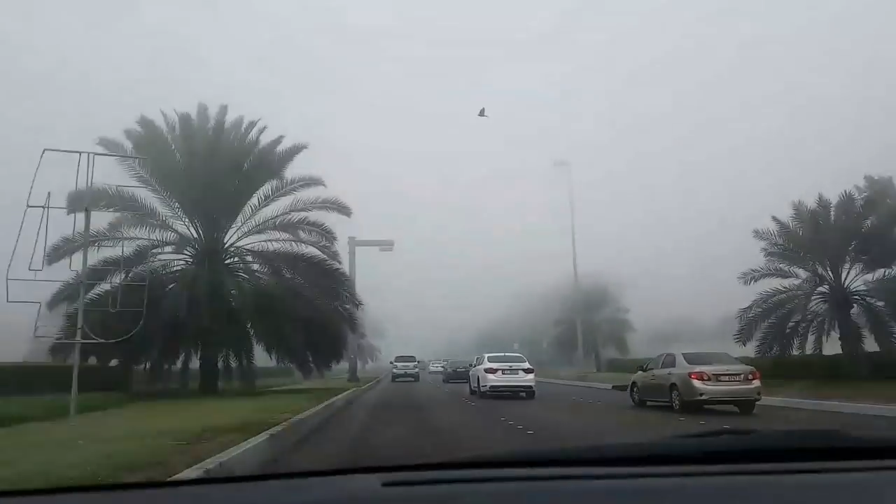car: (627, 348, 762, 413), (468, 352, 537, 399), (389, 353, 422, 383), (442, 358, 474, 383), (427, 359, 446, 374)
